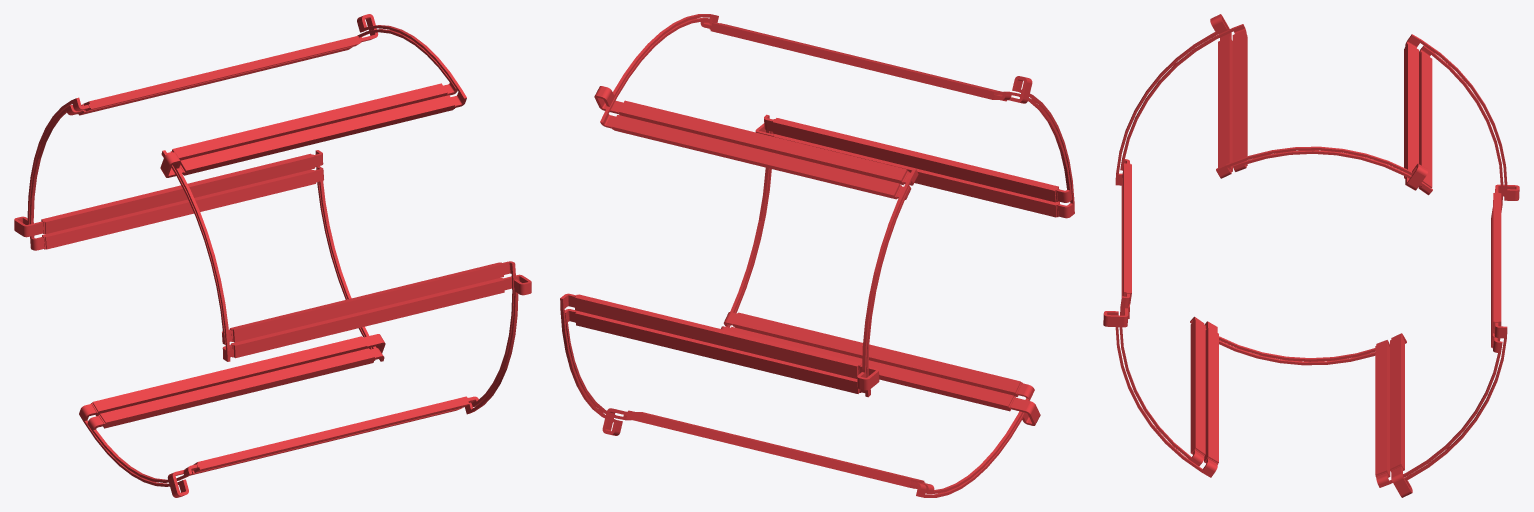
Rendered from PhaseB1.glb.
The picture shows the model from 3 angles, left to right: view 1: azimuth 30°, elevation 25°; view 2: azimuth 150°, elevation 25°; view 3: azimuth 270°, elevation 25°; orthographic projection. The views are drawn at different scales.
Visible parts, largest first — view 1: Phase B1; view 2: Phase B1; view 3: Phase B1.
Boxes of the visible parts, <box> form: Phase B1: <box>14,14,531,497</box>; Phase B1: <box>560,14,1074,497</box>; Phase B1: <box>1103,14,1519,497</box>.
Bounding box in the file's own units: 0.5268 × 0.5917 × 0.629.
